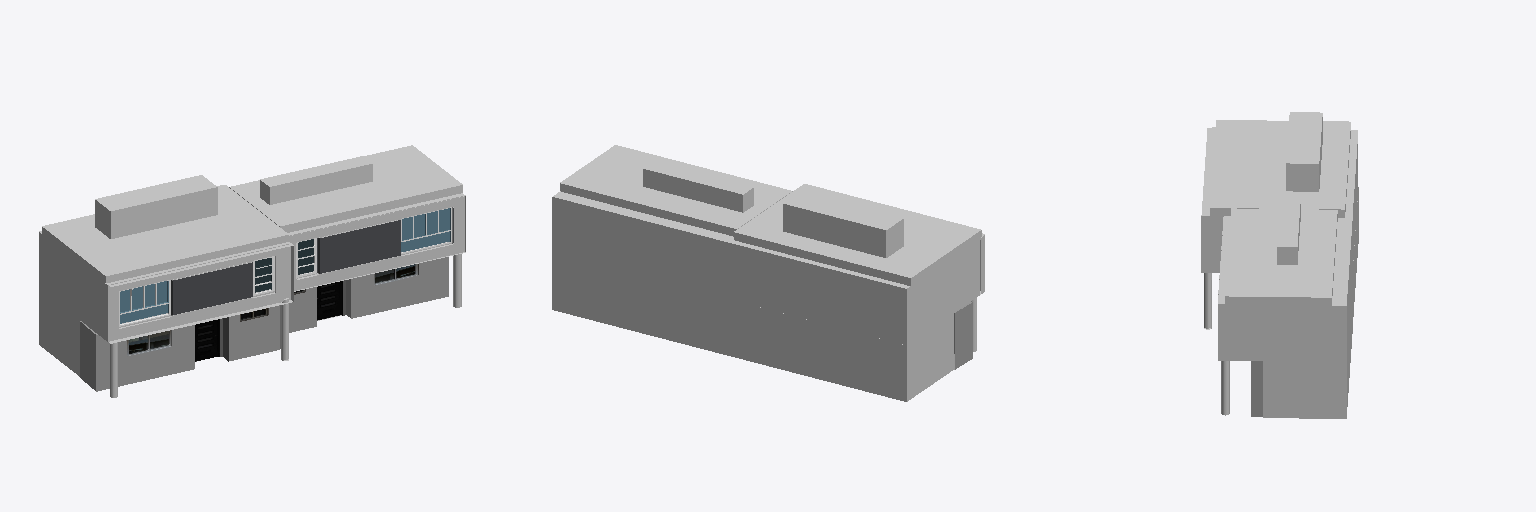
3 views of the same model, side by side, from view 1: azimuth 30°, elevation 25°; view 2: azimuth 150°, elevation 25°; view 3: azimuth 270°, elevation 25° (orthographic).
Visible parts, largest first — view 1: Plano.013_Plano.017, Plano.001_Plano.021, Plano.004, Plano.003_Plano.006, Plano; view 2: Plano.013_Plano.017, Plano.003_Plano.006; view 3: Plano.013_Plano.017, Plano.
Part boxes in pixels (bbox=[...]): Plano.013_Plano.017: bbox=[39, 145, 465, 397]; Plano.001_Plano.021: bbox=[104, 242, 290, 341]; Plano.004: bbox=[289, 196, 464, 290]; Plano.003_Plano.006: bbox=[80, 305, 279, 391]; Plano: bbox=[289, 257, 448, 332]; Plano.013_Plano.017: bbox=[552, 145, 984, 401]; Plano.003_Plano.006: bbox=[954, 302, 972, 369]; Plano.013_Plano.017: bbox=[1201, 112, 1358, 418]; Plano: bbox=[1251, 361, 1262, 416].
Size of the model in its own units: 40.46 by 15.95 by 15.08.
3 materials, 3 textured.